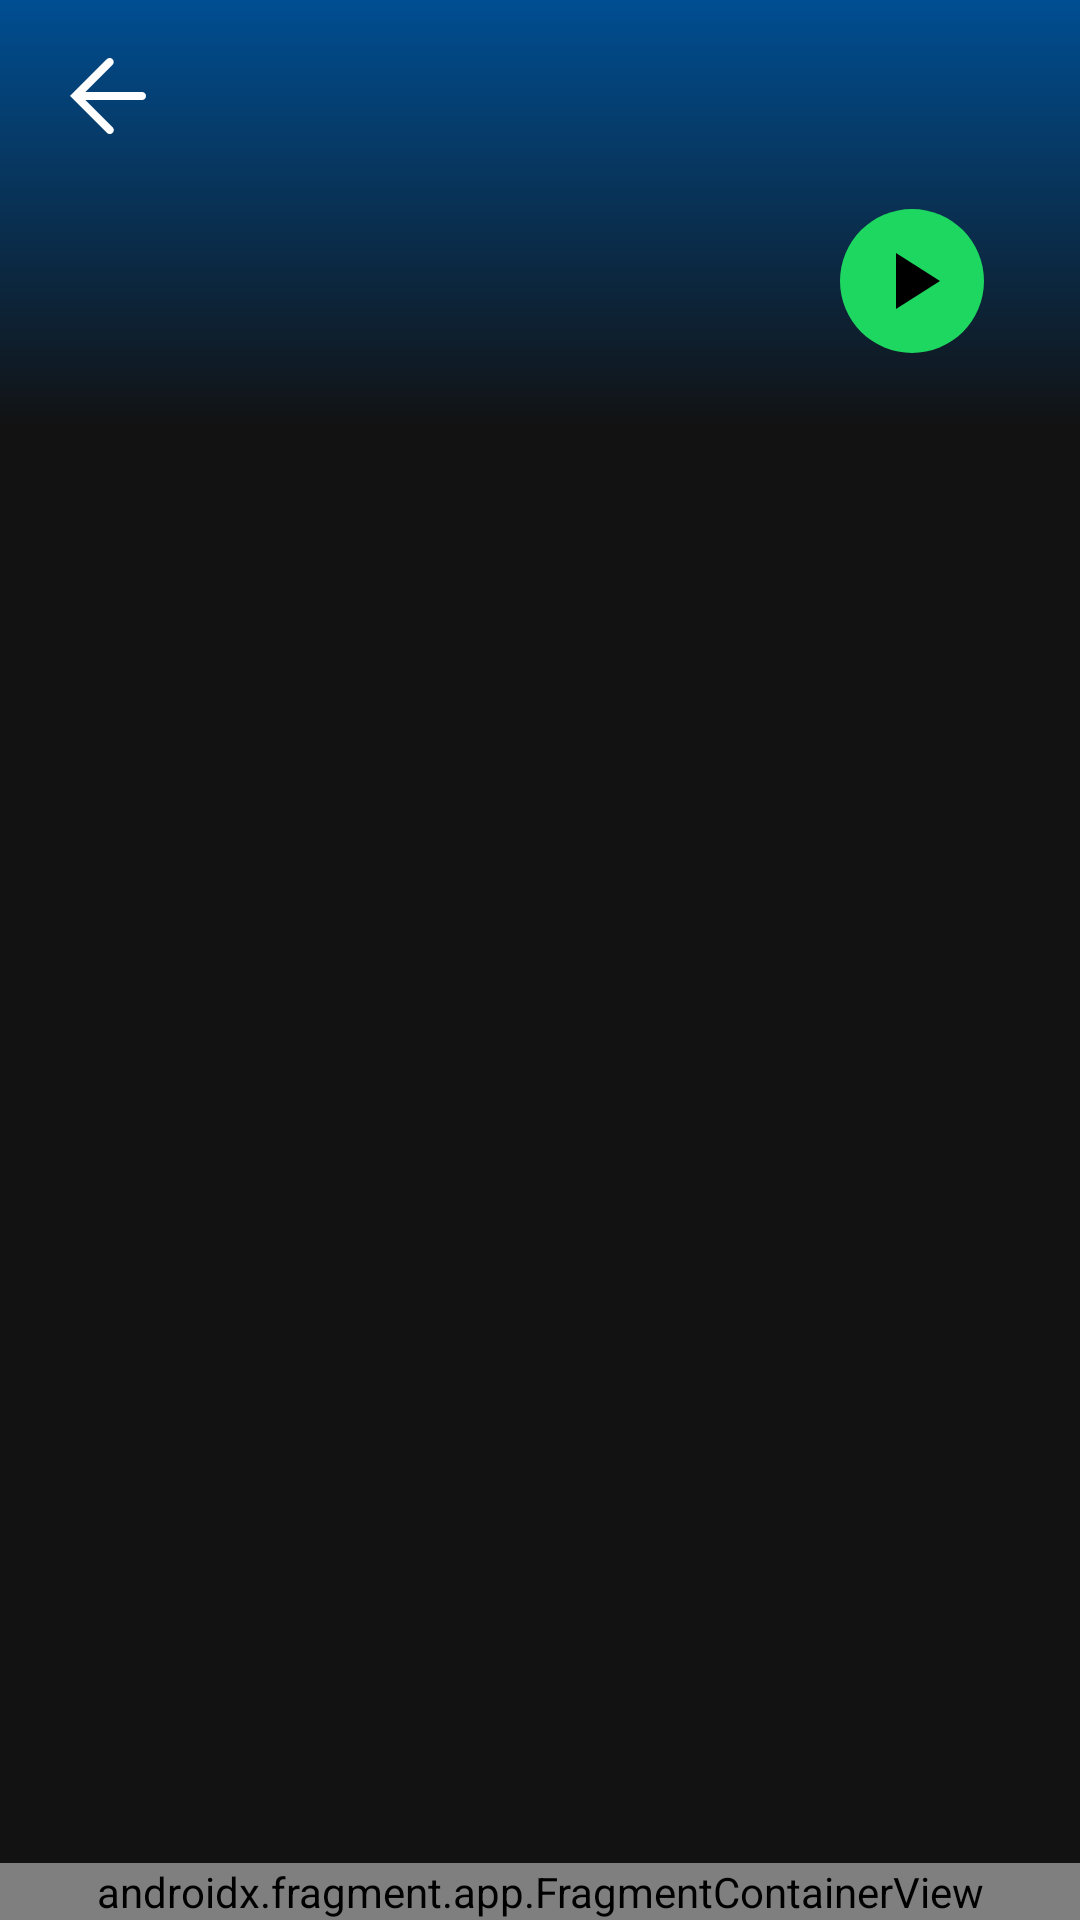

Where to tap for icons on this 1080×1920 app screen, as (x=x, y=y):
Nút phát: (x=912, y=281)
Quay lại: (x=108, y=96)
